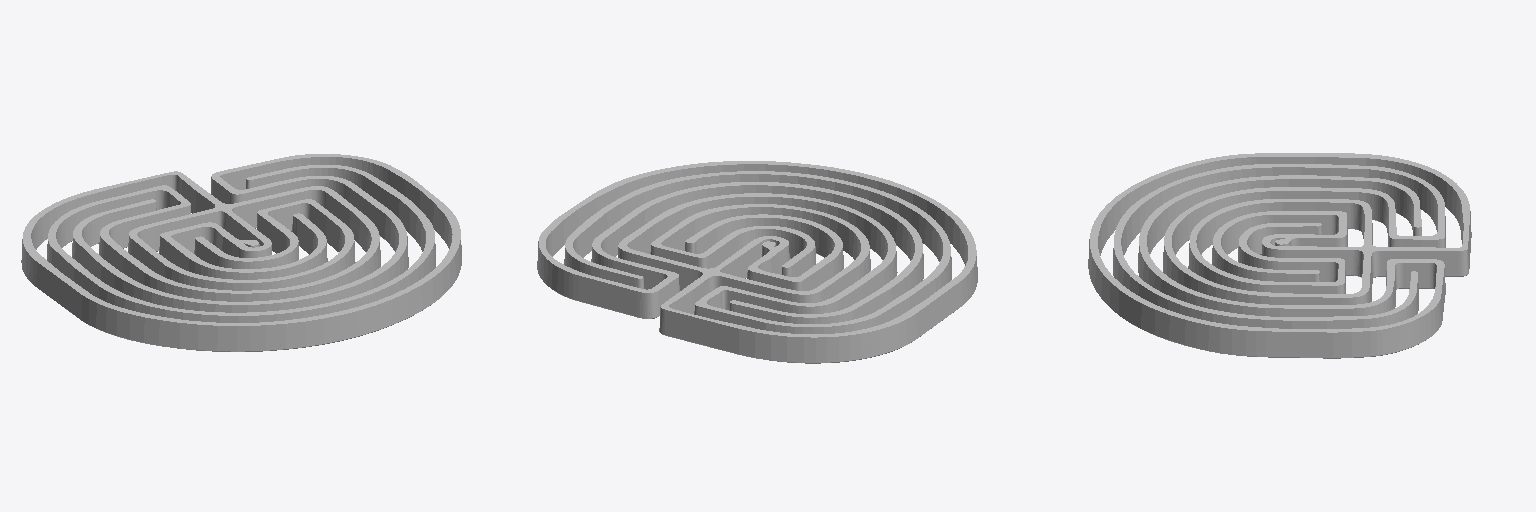
File: maze.obj
3 views of the same model, side by side, from view 1: azimuth 30°, elevation 25°; view 2: azimuth 150°, elevation 25°; view 3: azimuth 270°, elevation 25° (orthographic).
Parts seen in each view (by area): view 1: Conector Mesh; view 2: Conector Mesh; view 3: Conector Mesh.
Boxes of the visible parts, box(x1,y1,x2,y2) form: Conector Mesh: box(21, 154, 461, 351); Conector Mesh: box(537, 161, 977, 363); Conector Mesh: box(1088, 153, 1471, 358).
Bounding box in the file's own units: 356 × 24 × 320.